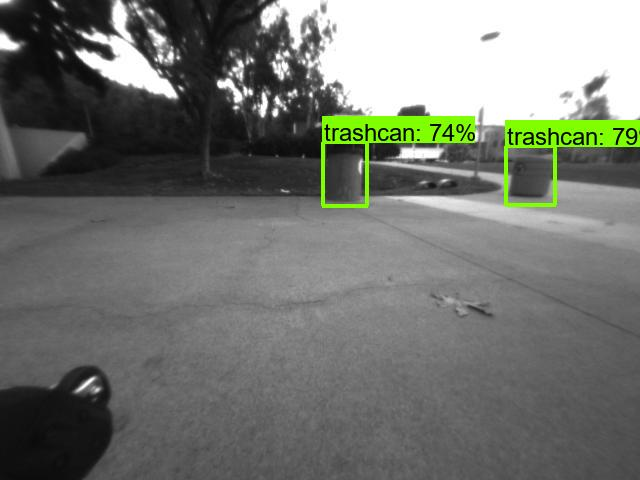trashcan: (324, 146, 367, 205), (505, 150, 551, 199)
